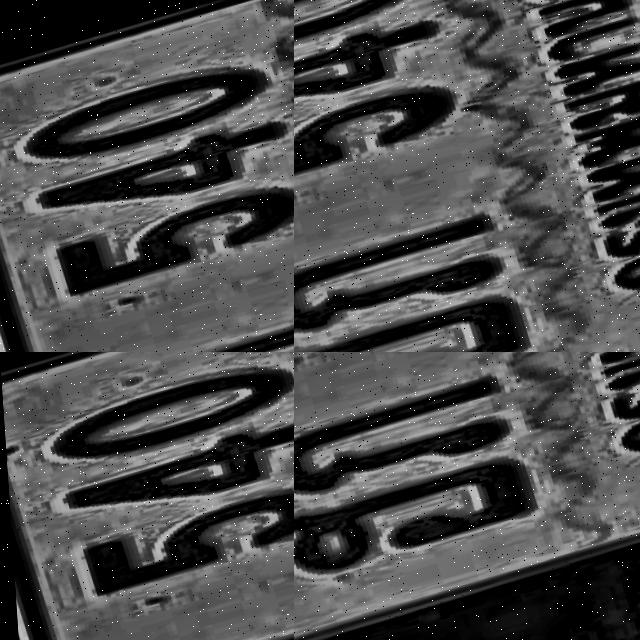license-plate: (294, 352, 640, 640), (294, 100, 640, 352), (9, 549, 294, 640)
